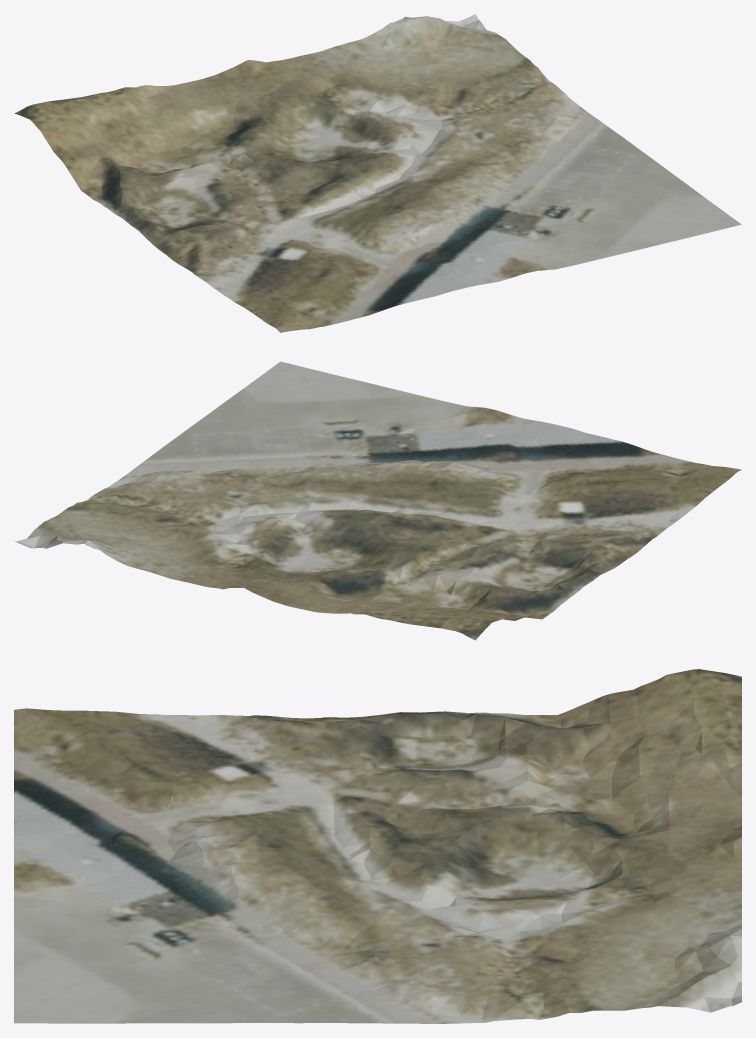
3 views of the same model, one above another, from view 1: azimuth 30°, elevation 25°; view 2: azimuth 150°, elevation 25°; view 3: azimuth 270°, elevation 25° (orthographic). The views are drawn at different scales.
Bounding box in the file's own units: 104 × 8.44 × 104.
Materials: 2 (2 with a texture image).
